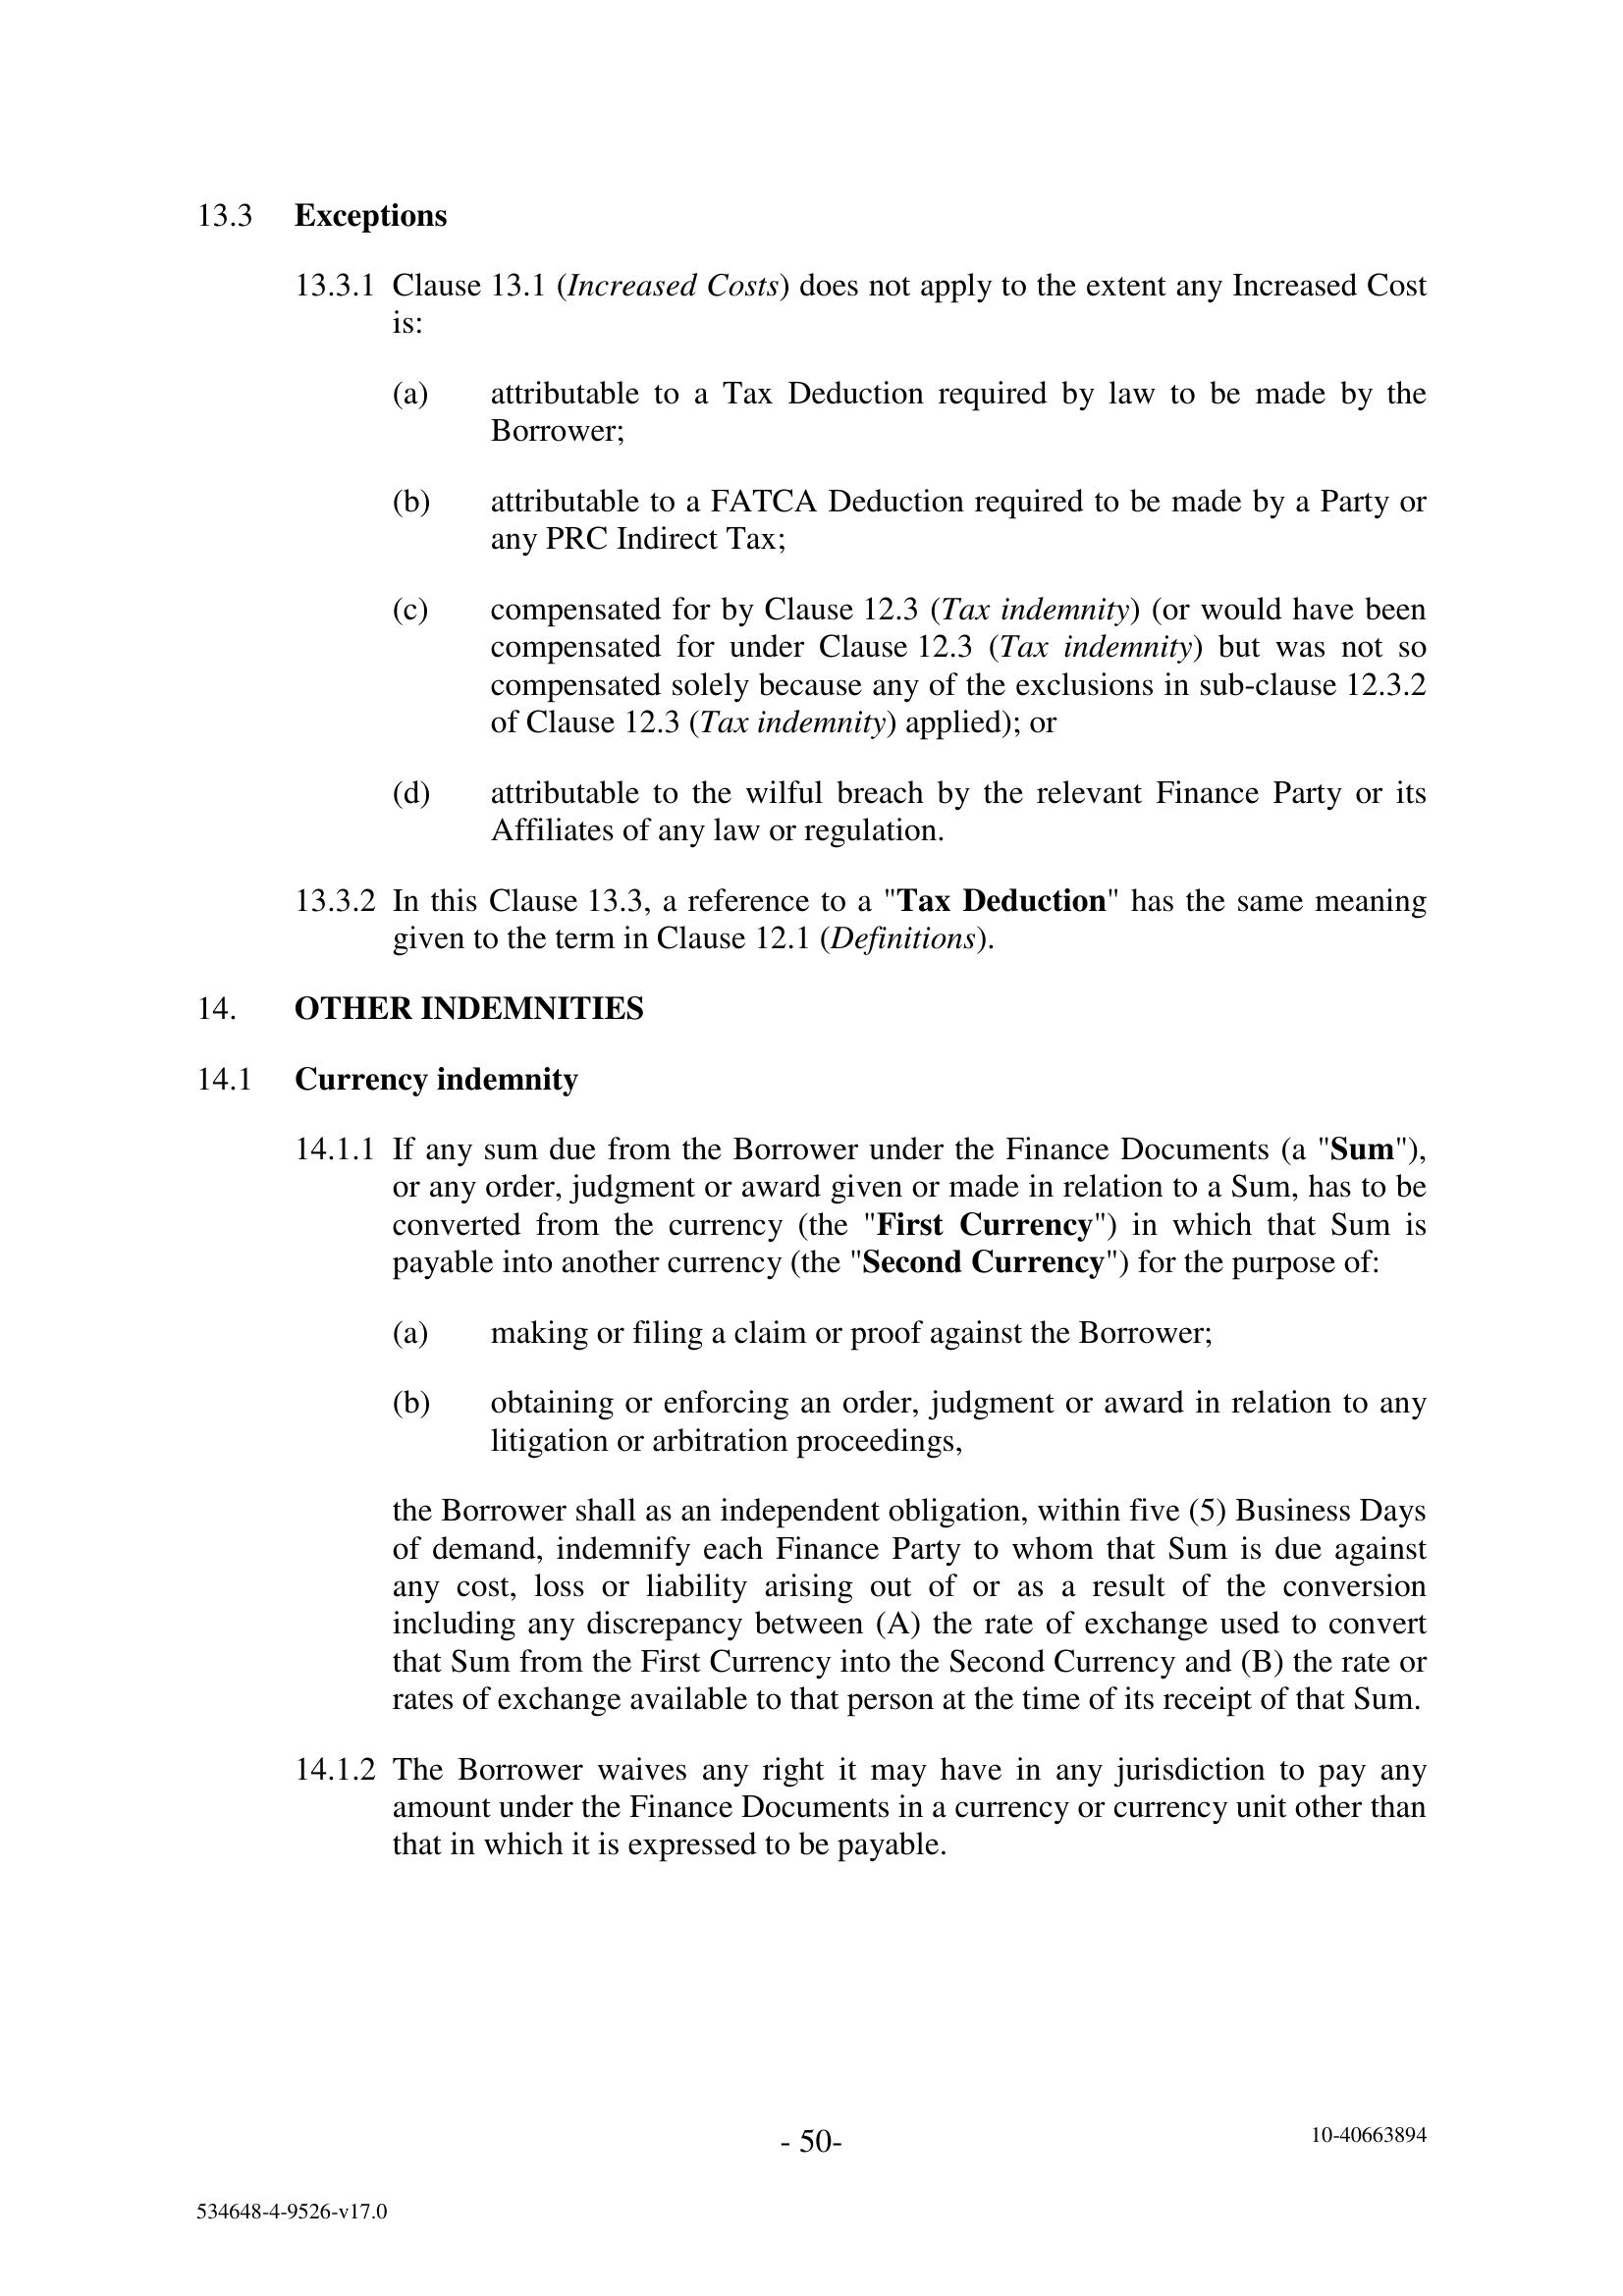pageno: (715, 2082, 903, 2213)
tag: (93, 2157, 508, 2275), (1198, 2078, 1532, 2184)
